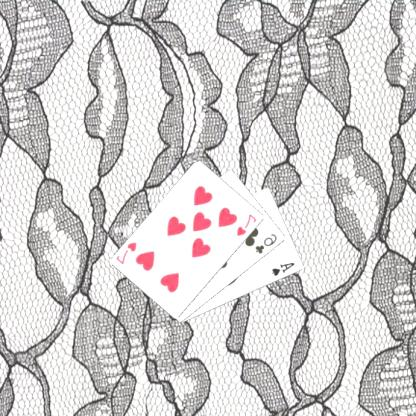6C: (254, 231, 280, 255)
7H: (115, 239, 140, 266), (236, 211, 260, 238)
AS: (271, 260, 298, 277)
